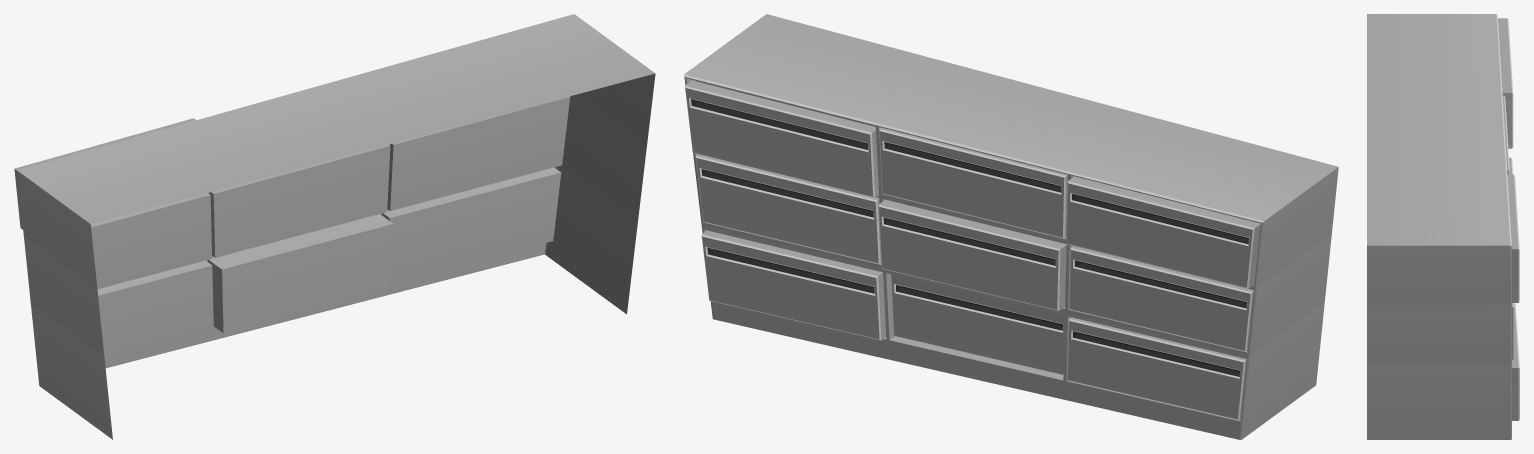
Rendered from SM_Cabinet_Long.fbx.
3 renders of one model, left to right at view 1: azimuth 30°, elevation 25°; view 2: azimuth 150°, elevation 25°; view 3: azimuth 270°, elevation 25°, orthographic. The views are drawn at different scales.
Parts seen in each view (by area): view 1: SM_Cabinet_Long_01; view 2: SM_Cabinet_Long_01; view 3: SM_Cabinet_Long_01.
Part boxes in pixels (x1=…): SM_Cabinet_Long_01: x1=14, y1=14, x2=655, y2=439; SM_Cabinet_Long_01: x1=684, y1=14, x2=1338, y2=439; SM_Cabinet_Long_01: x1=1367, y1=14, x2=1519, y2=439.
Bounding box in the file's own units: 253 × 100 × 67.35.
1 material, 1 textured.
